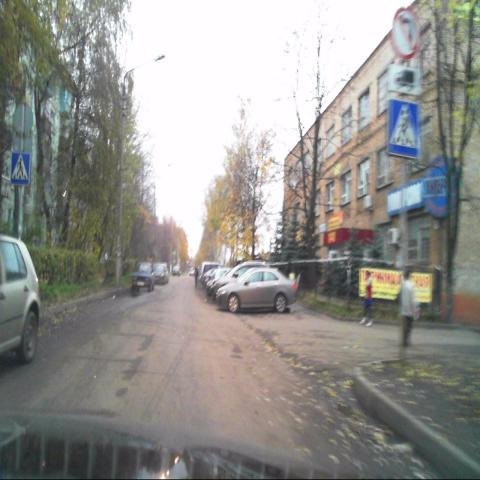3_18_2: (391, 9, 419, 60)
8_4_1: (388, 64, 421, 96)
